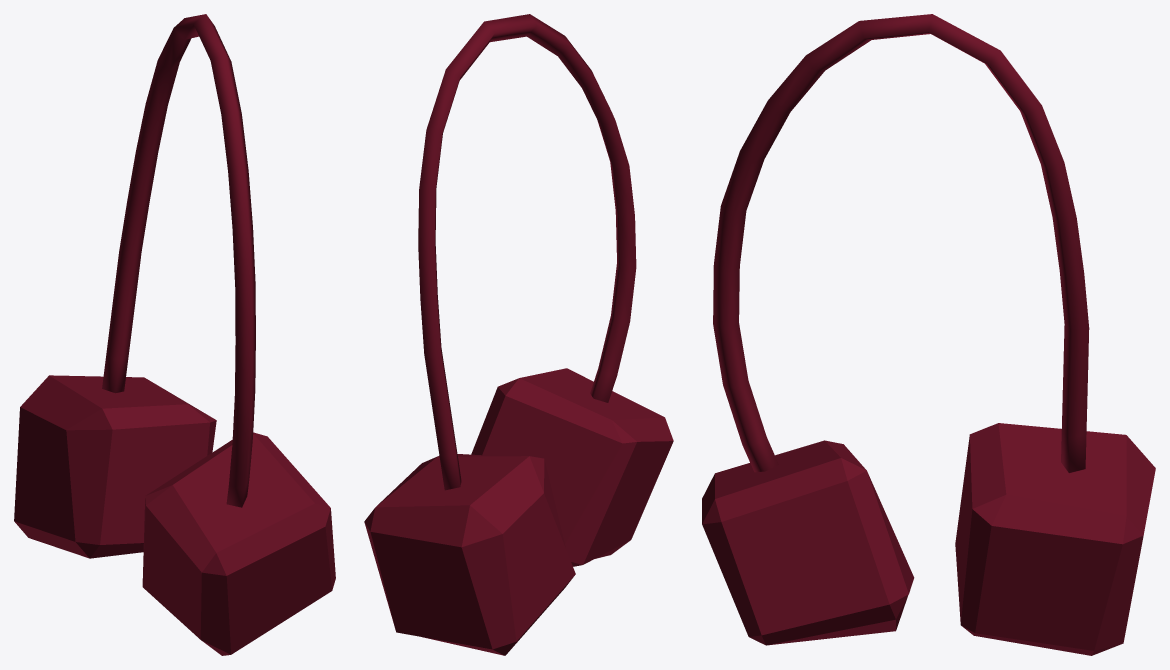
Rendered from Dobbelstenen.fbx.
3 views of the same model, side by side, from view 1: azimuth 30°, elevation 25°; view 2: azimuth 150°, elevation 25°; view 3: azimuth 270°, elevation 25° (orthographic). The views are drawn at different scales.
Parts seen in each view (by area): view 1: Cylinder.001; view 2: Cylinder.001; view 3: Cylinder.001.
Boxes of the visible parts, bbox=[...] form: Cylinder.001: bbox=[14, 14, 335, 655]; Cylinder.001: bbox=[364, 14, 673, 655]; Cylinder.001: bbox=[702, 14, 1155, 655].
Size of the model in its own units: 31.28 by 103 by 65.16.
